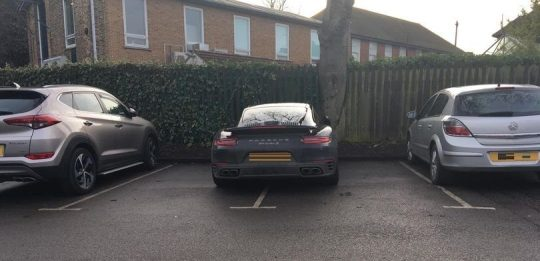car: (1, 77, 156, 195), (406, 79, 540, 190), (210, 104, 349, 190)
